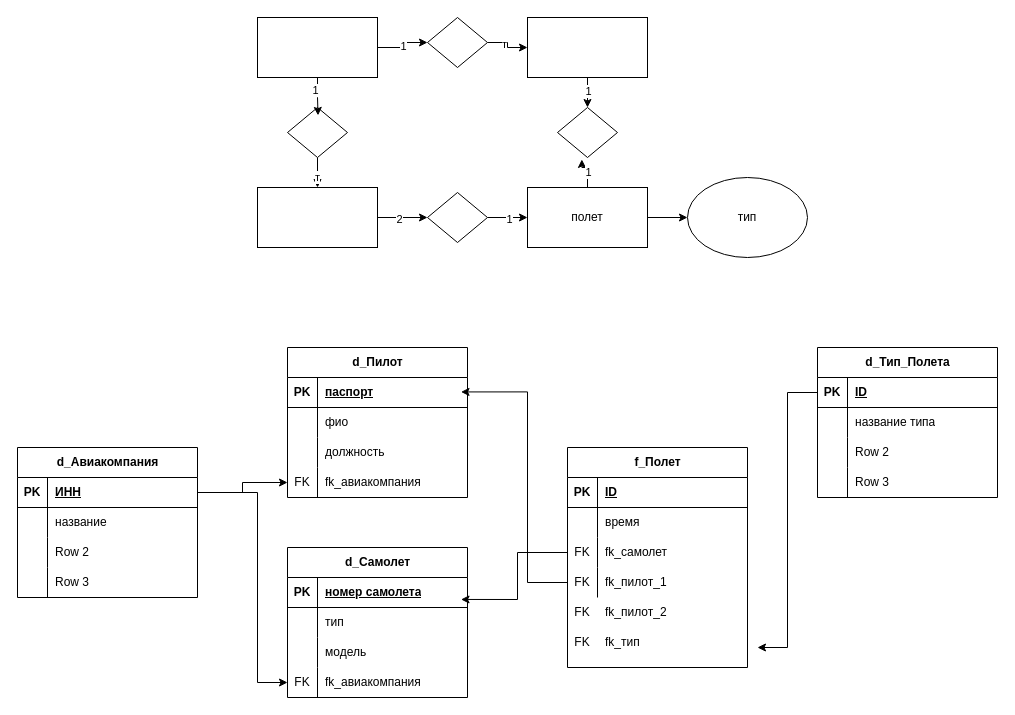
Some shapes in this 1015 by 715 pixel diagram are drawn without their labels. Here are the shapes that lost their labels. From the top down, the centre of each, then its label:
At point (317, 47): "Авиакомпания".
At point (587, 47): "самолет".
At point (317, 217): "пилот".
